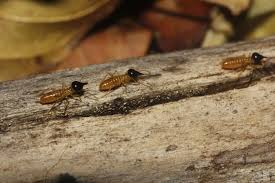nasutitermes corniger: (28, 73, 93, 118), (94, 57, 149, 100), (217, 39, 271, 78)
